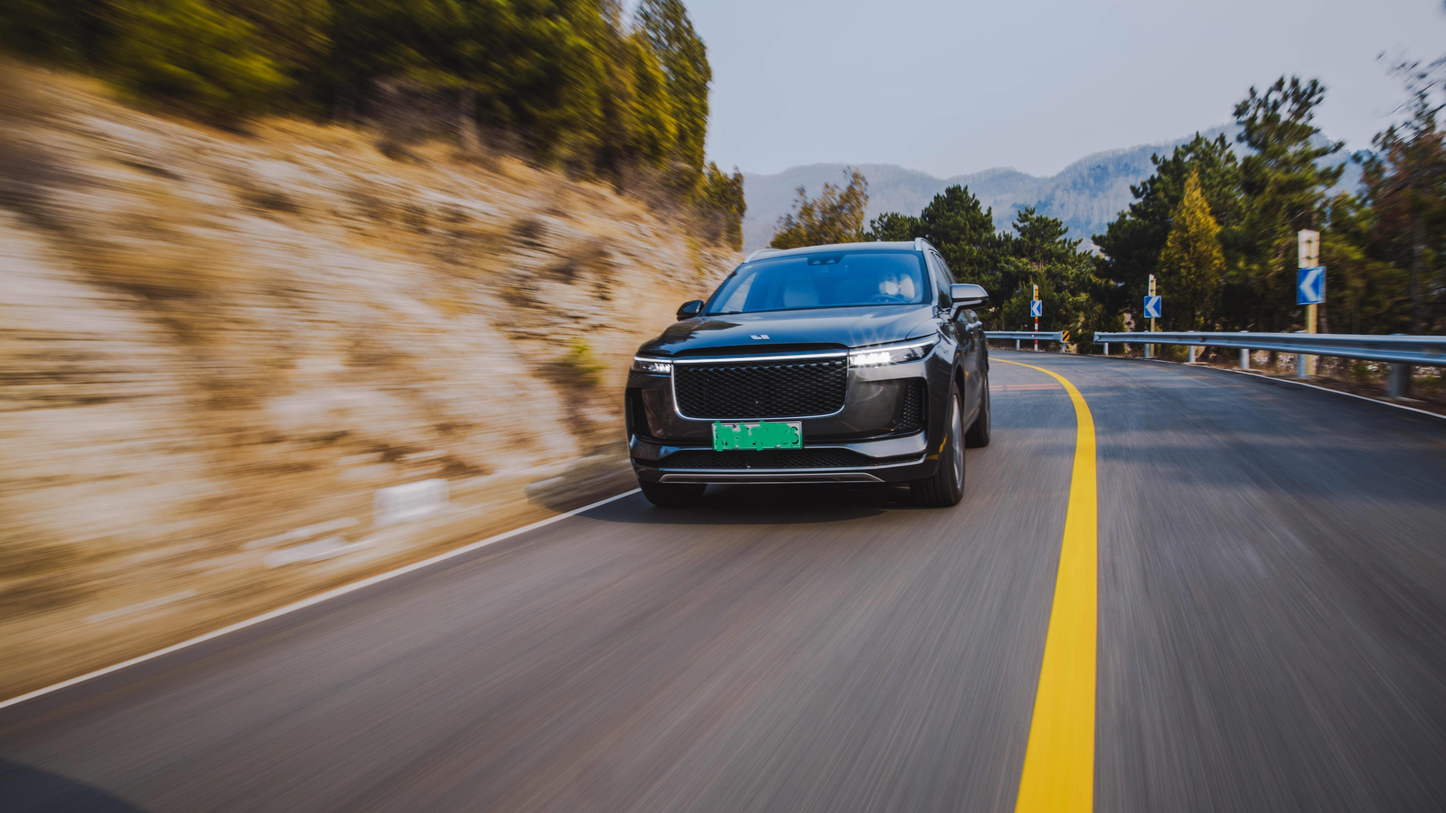Li Auto: (749, 334, 770, 340)
